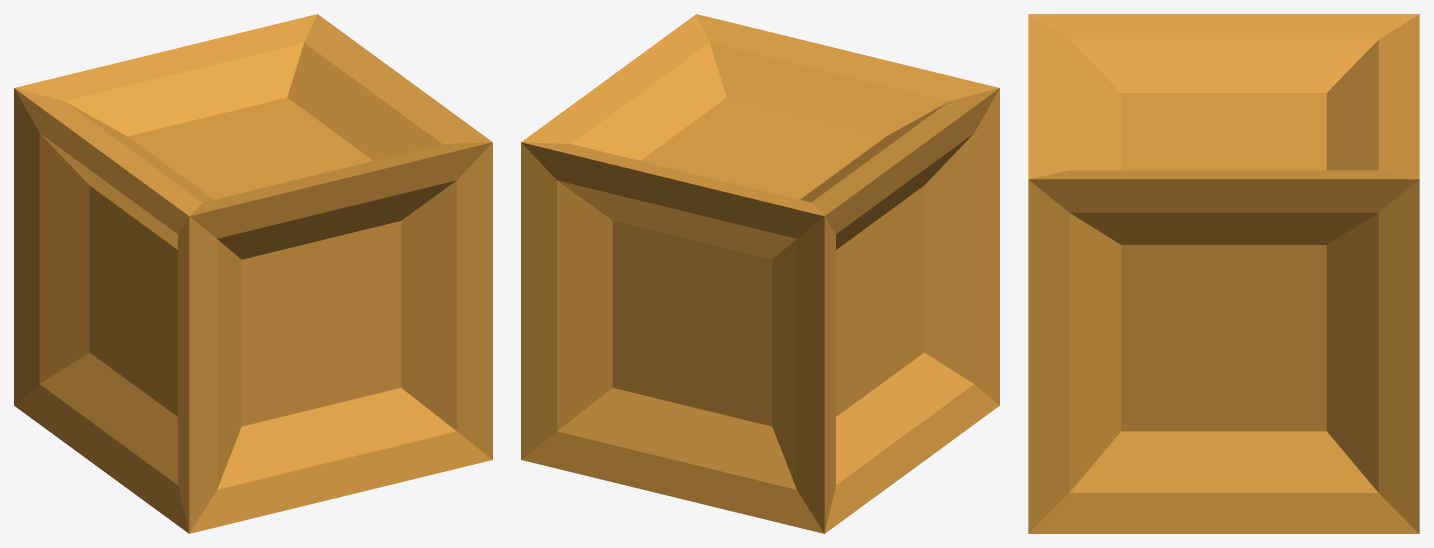
The model's file is Playerblock.fbx.
3 views of the same model, side by side, from view 1: azimuth 30°, elevation 25°; view 2: azimuth 150°, elevation 25°; view 3: azimuth 270°, elevation 25° (orthographic). The views are drawn at different scales.
Parts seen in each view (by area): view 1: Cube; view 2: Cube; view 3: Cube.
Part boxes in pixels (<box>): Cube: <box>14,14,492,533</box>; Cube: <box>521,14,999,533</box>; Cube: <box>1028,14,1419,533</box>.
Size of the model in its own units: 200 by 200 by 200.
